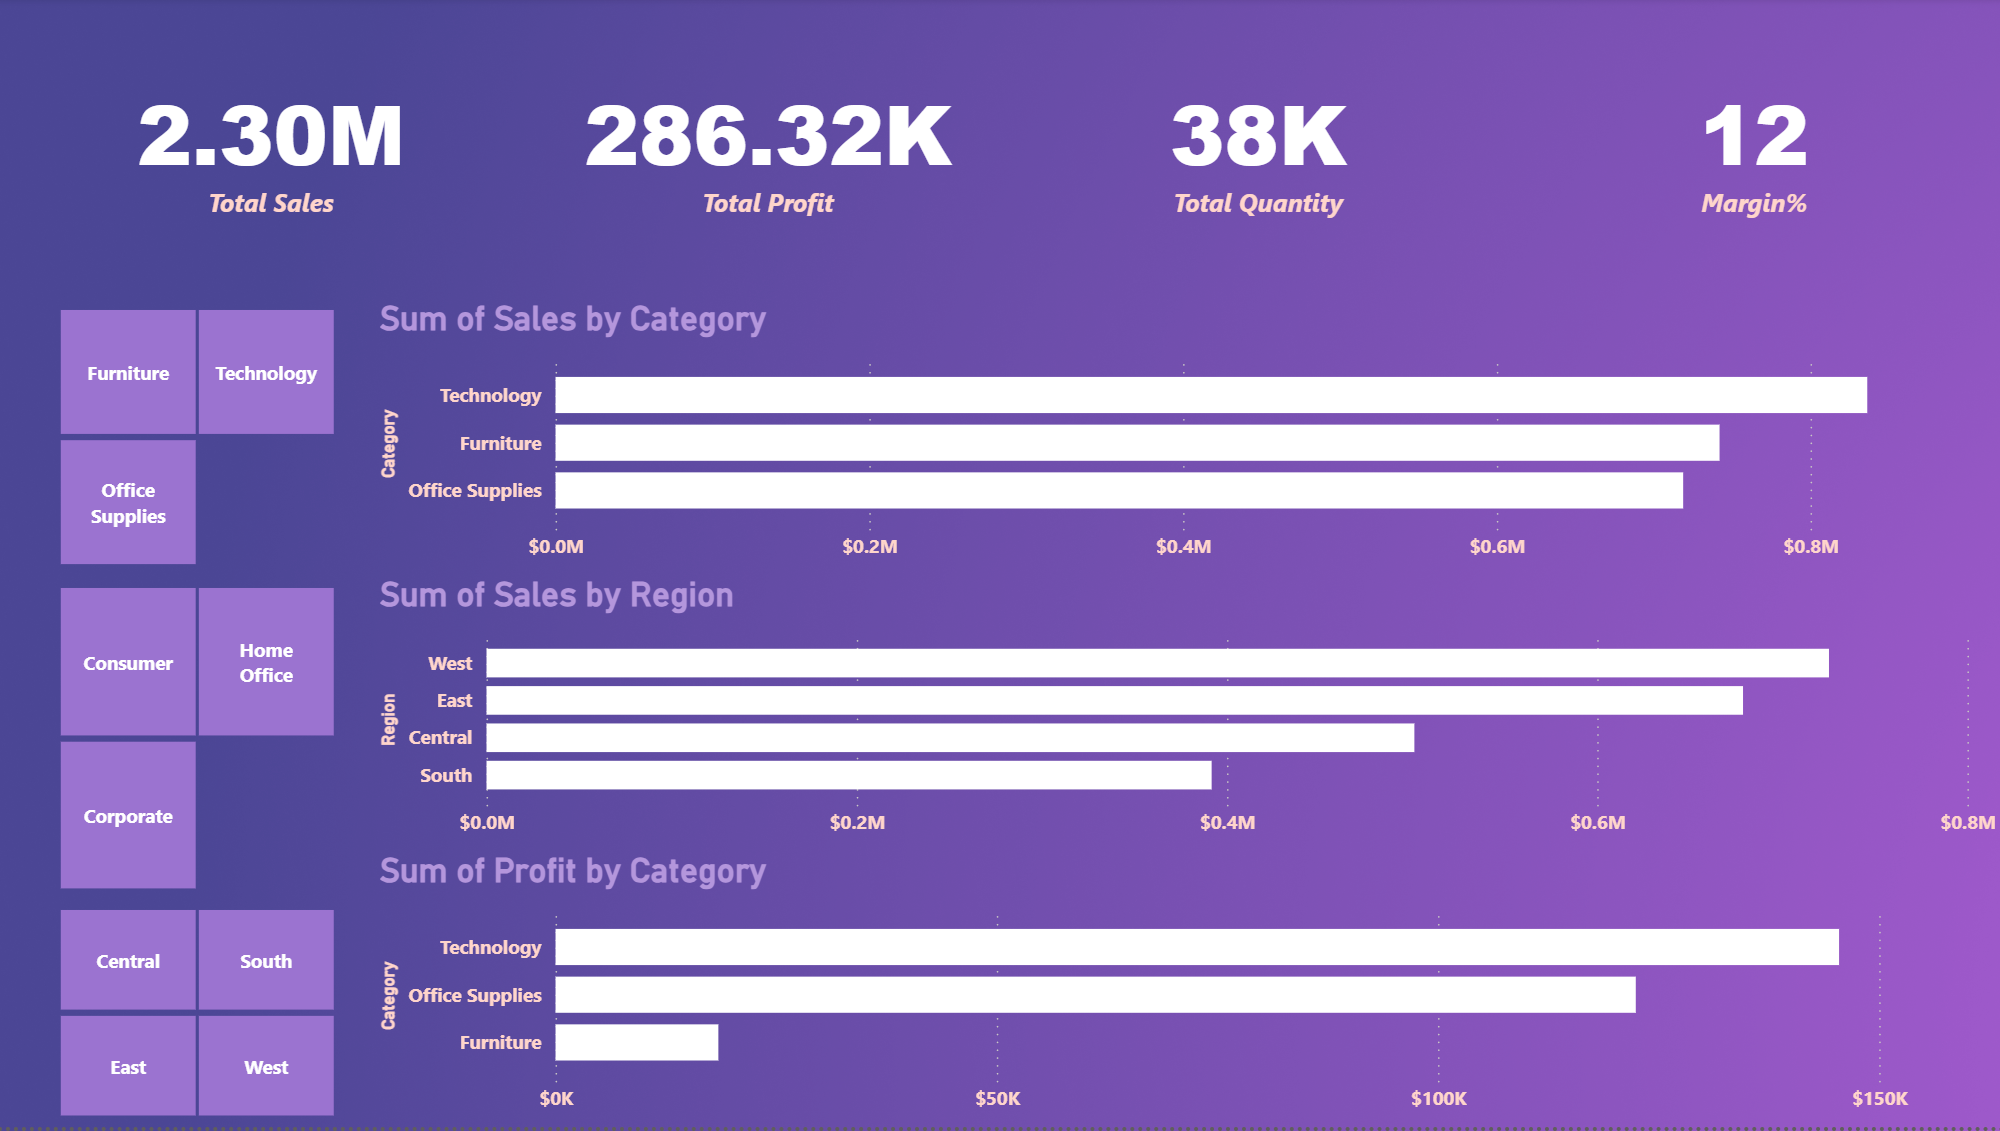

The dashboard page shown, as its layout file describes it:
{"tool":"powerbi","page":{"name":"Executive Overview","canvas":[1280,720],"ordinal":0},"visuals":[{"type":"card","fields":{"Values":["SampleSuperstore.Total Sales"]},"box":[16,0,320,192],"z":0,"group":"g2"},{"type":"slicer","fields":{"Values":["SampleSuperstore.Category"]},"box":[16,192,224,176],"z":0,"group":"g1"},{"type":"card","fields":{"Values":["SampleSuperstore.Total Profit"]},"box":[326.8,0,331.5,192],"z":1000,"group":"g2"},{"type":"slicer","fields":{"Values":["SampleSuperstore.Segment"]},"box":[16,369.4,224,205.5],"z":1000,"group":"g1"},{"type":"card","fields":{"Values":["SampleSuperstore.Total Quantity"]},"box":[647.6,0,316.4,192],"z":2000,"group":"g2"},{"type":"slicer","fields":{"Values":["SampleSuperstore.Region"]},"box":[16,574.9,224,145.1],"z":2000,"group":"g1"},{"type":"group","id":"g1","title":"Group 3","box":[16,192,224,528],"z":3000,"group":"g2"},{"type":"card","fields":{"Values":["SampleSuperstore.Margin%"]},"box":[963.6,0,316.4,192],"z":4000,"group":"g2"},{"type":"barChart","fields":{"Y":["Sum(SampleSuperstore.Sales)"],"Category":["SampleSuperstore.Category"]},"box":[240,192,1040,176],"z":5000,"group":"g2"},{"type":"barChart","fields":{"Y":["Sum(SampleSuperstore.Sales)"],"Category":["SampleSuperstore.Region"]},"box":[240,368,1040,176],"z":6000,"group":"g2"},{"type":"barChart","fields":{"Y":["Sum(SampleSuperstore.Profit)"],"Category":["SampleSuperstore.Category"]},"box":[240,544,1040,176],"z":7000,"group":"g2"},{"type":"group","id":"g2","title":"Group 1","box":[16,0,1264,720],"z":7001}]}

Visuals, with their boxes in screenshot pixels (x1, y1, x2, y2), scaled from the page's 1280x720 canvas onto the 2000x1131 screenshot:
card - SampleSuperstore.Total Sales: 25:0:525:302
slicer - SampleSuperstore.Category: 25:302:375:578
card - SampleSuperstore.Total Profit: 511:0:1029:302
slicer - SampleSuperstore.Segment: 25:580:375:903
card - SampleSuperstore.Total Quantity: 1012:0:1506:302
slicer - SampleSuperstore.Region: 25:903:375:1130
"Group 3" group: 25:302:375:1130
card - SampleSuperstore.Margin%: 1506:0:1999:302
barChart - Sum(SampleSuperstore.Sales) x SampleSuperstore.Category: 375:302:1999:578
barChart - Sum(SampleSuperstore.Sales) x SampleSuperstore.Region: 375:578:1999:855
barChart - Sum(SampleSuperstore.Profit) x SampleSuperstore.Category: 375:855:1999:1130
"Group 1" group: 25:0:1999:1130
